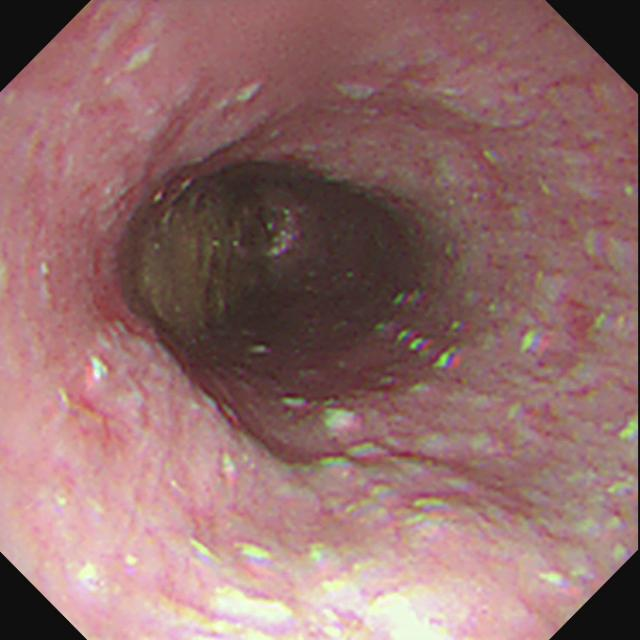E: (114, 150, 430, 365)
J: (182, 378, 469, 623), (370, 270, 637, 431)
